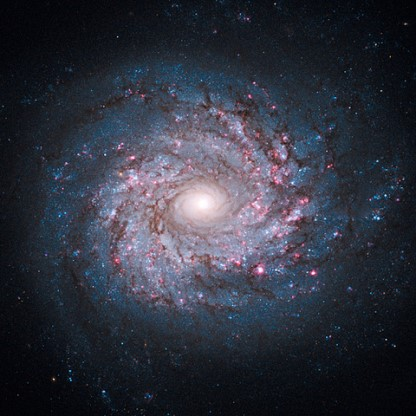NGC 3982: (27, 51, 392, 368)
